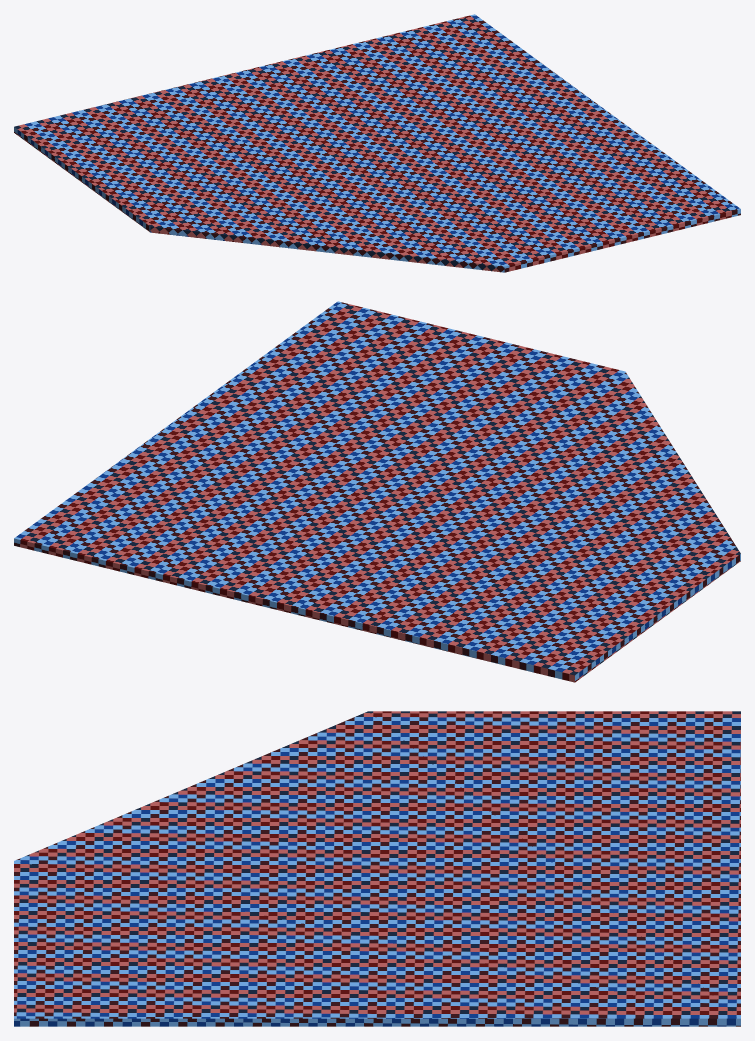
File: Floor_tileAngled_01.fbx
3 views of the same model, one above another, from view 1: azimuth 30°, elevation 25°; view 2: azimuth 150°, elevation 25°; view 3: azimuth 270°, elevation 25° (orthographic). The views are drawn at different scales.
Parts seen in each view (by area): view 1: Floor_tileAngled_01; view 2: Floor_tileAngled_01; view 3: Floor_tileAngled_01.
Part boxes in pixels (bbox=[...]): Floor_tileAngled_01: bbox=[14, 14, 740, 272]; Floor_tileAngled_01: bbox=[14, 301, 740, 682]; Floor_tileAngled_01: bbox=[14, 711, 740, 1026].
Bounding box in the file's own units: 400 × 5 × 400.
Materials: 1 (1 with a texture image).
